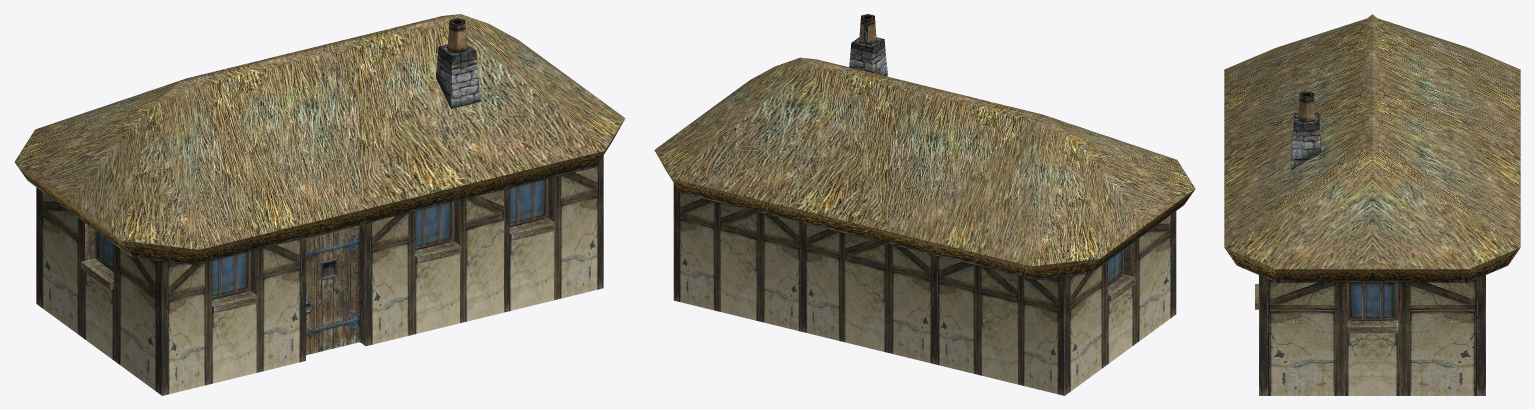
The model's file is mhouse11.glb.
3 views of the same model, side by side, from view 1: azimuth 30°, elevation 25°; view 2: azimuth 150°, elevation 25°; view 3: azimuth 270°, elevation 25° (orthographic). The views are drawn at different scales.
Parts seen in each view (by area): view 1: mhouse11-col; view 2: mhouse11-col; view 3: mhouse11-col.
Boxes of the visible parts, <box> form: mhouse11-col: <box>14,14,625,395</box>; mhouse11-col: <box>654,14,1195,395</box>; mhouse11-col: <box>1224,14,1520,395</box>.
Bounding box in the file's own units: 10.14 × 5.32 × 5.74.
Materials: 8 (8 with a texture image).
